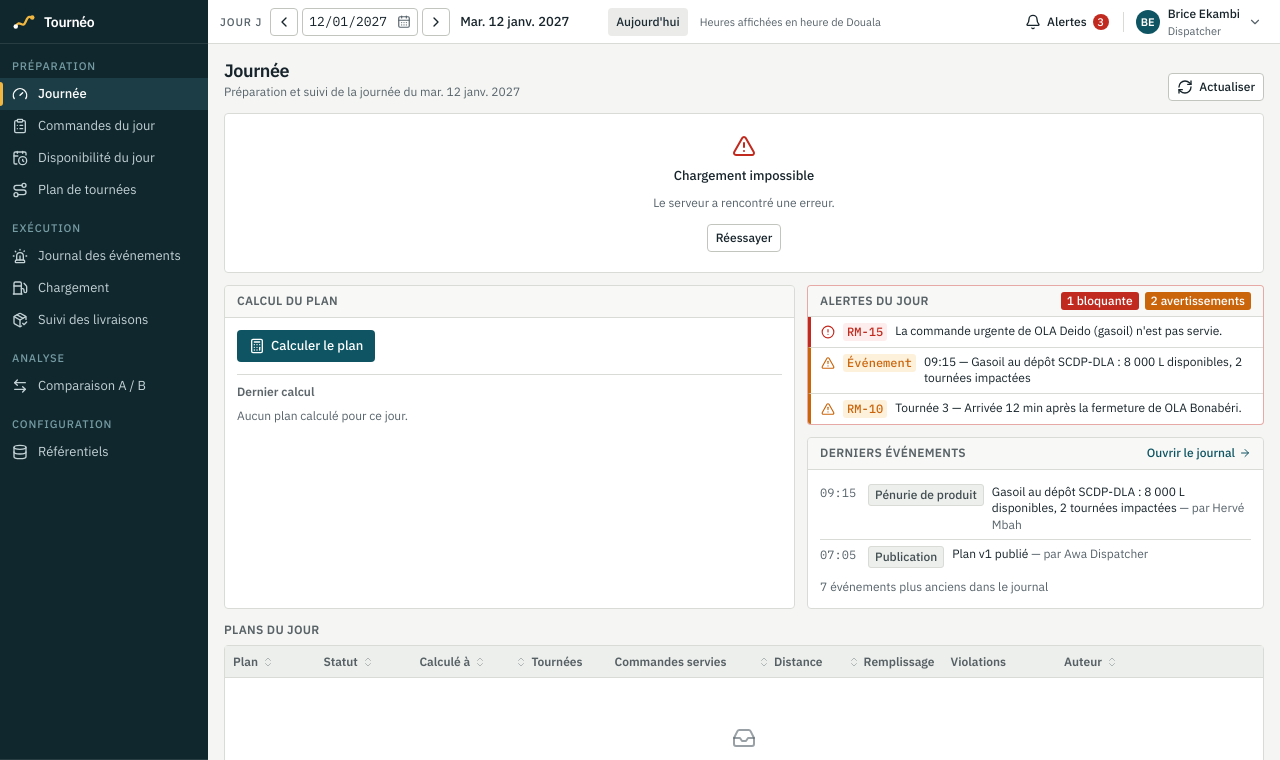
Scenario: Journée — résumé du jour › signale une erreur de chargement du résumé et permet de réessayer
Expected: the message shows "Le serveur a rencontré une erreur.", [653,194,835,210]
Click the button "Réessayer" at (744, 238), box [707,224,781,252]
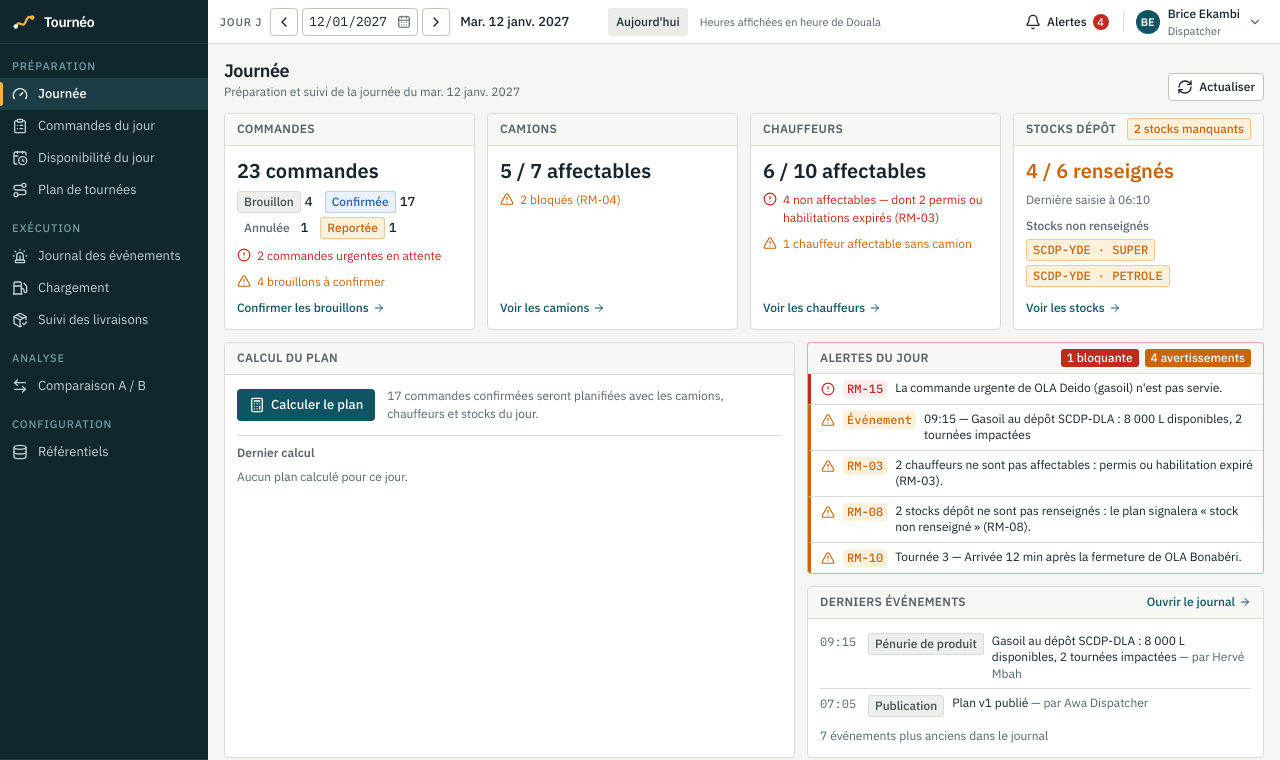
Expected: the text "23 commandes" is shown, [237,156,379,184]
